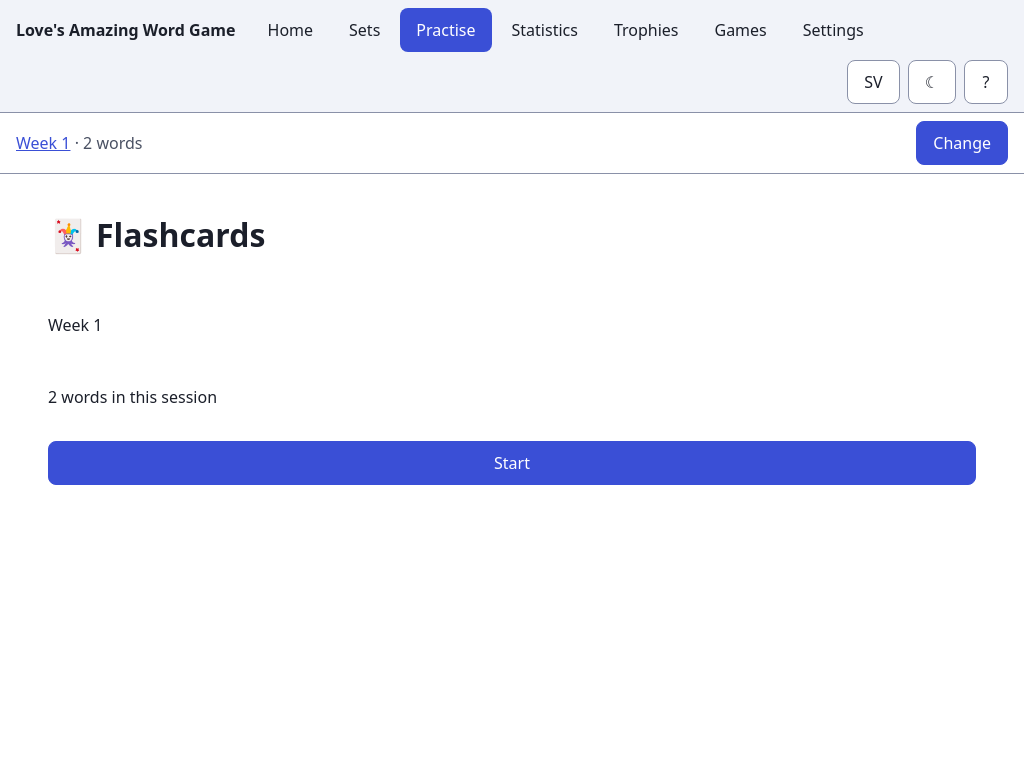
Scenario: running a session › FR-TRN-5: shows the score and a perfect-session message at the end
Click the button "Start" at (512, 463), box [48, 441, 976, 485]
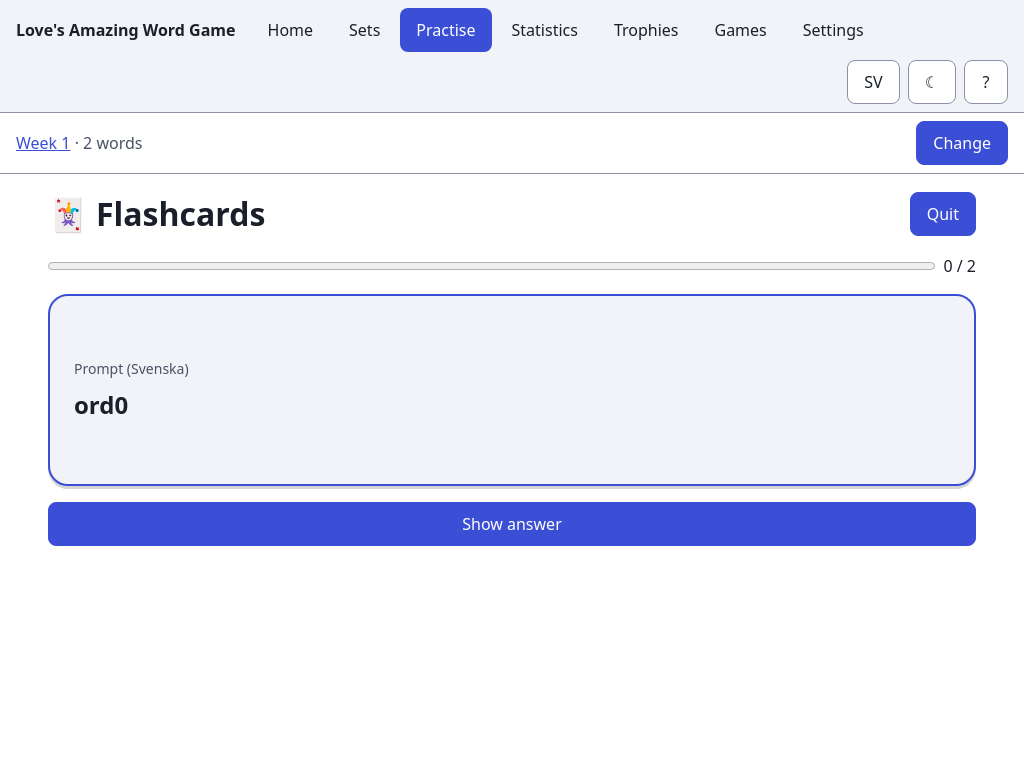
Click the button "Show answer" at (512, 524), box [48, 502, 976, 546]
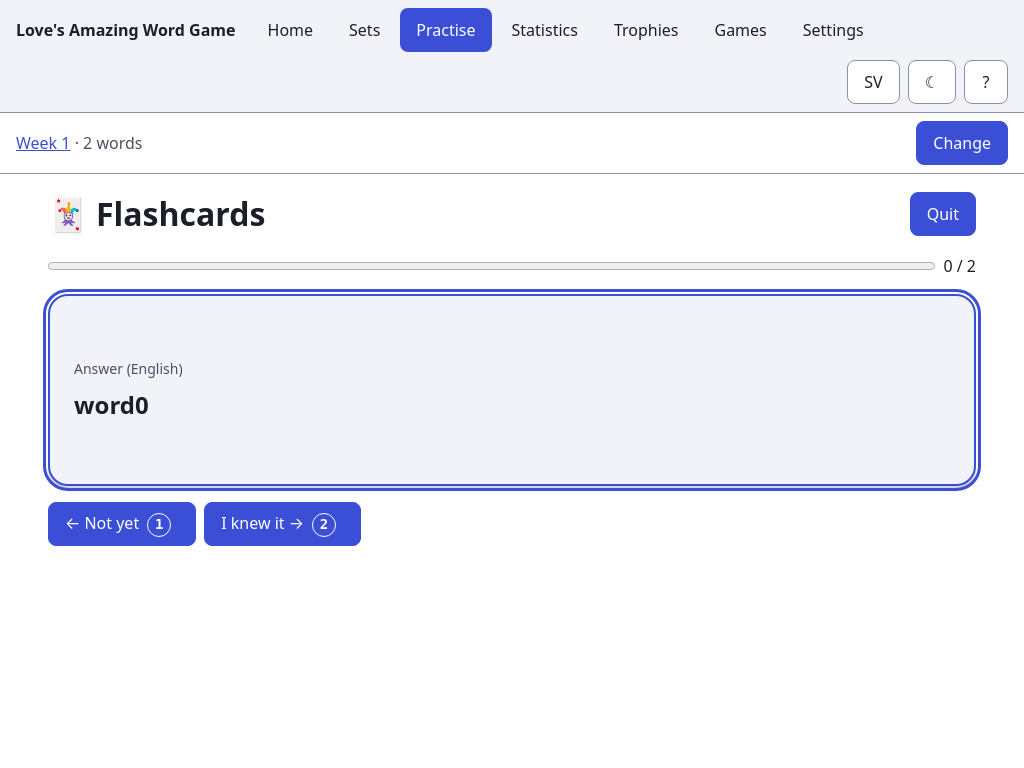
Click the button "I knew it → 2" at (283, 524), box [204, 502, 361, 546]
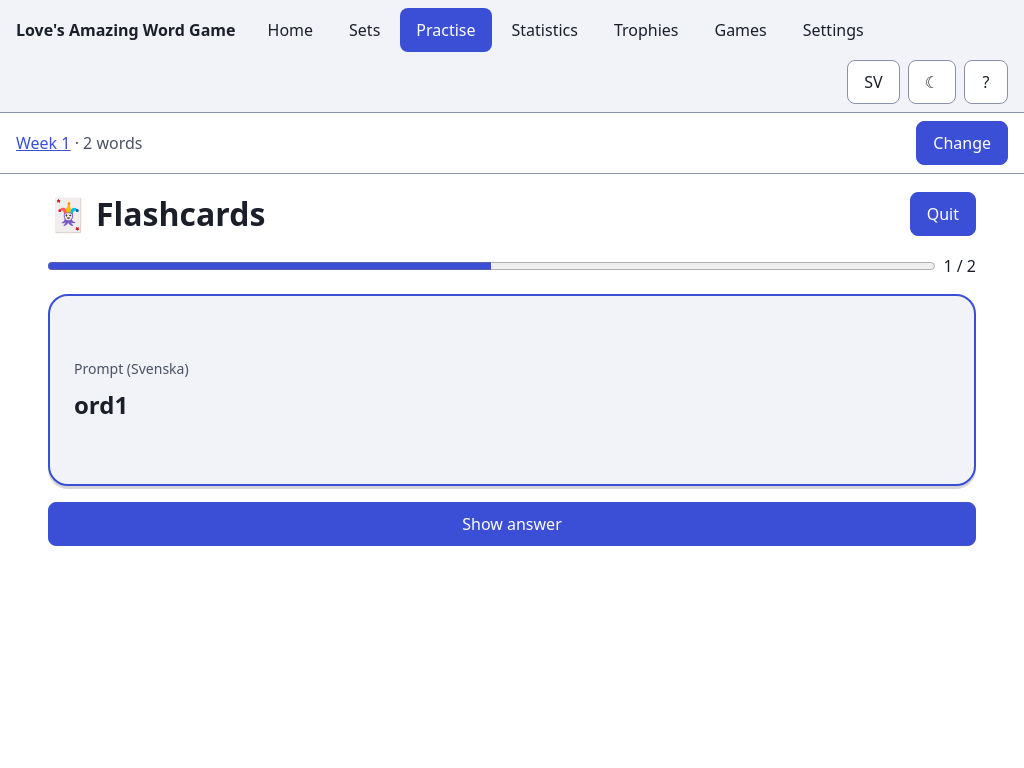
Click the button "Show answer" at (512, 524), box [48, 502, 976, 546]
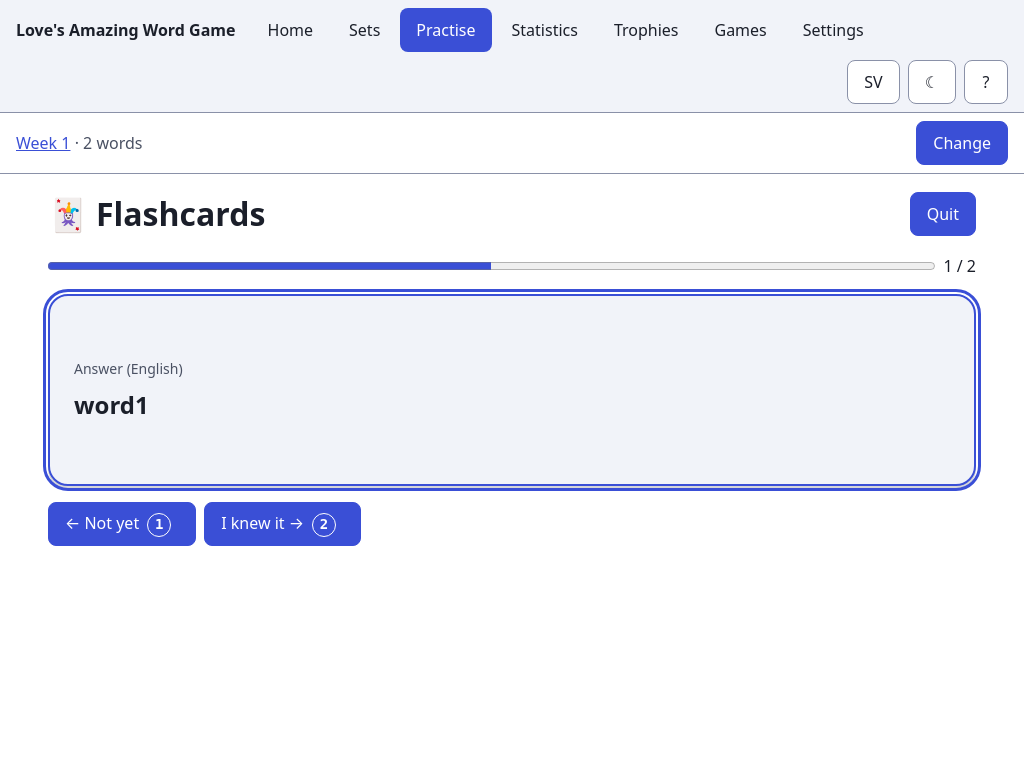
Click the button "I knew it → 2" at (283, 524), box [204, 502, 361, 546]
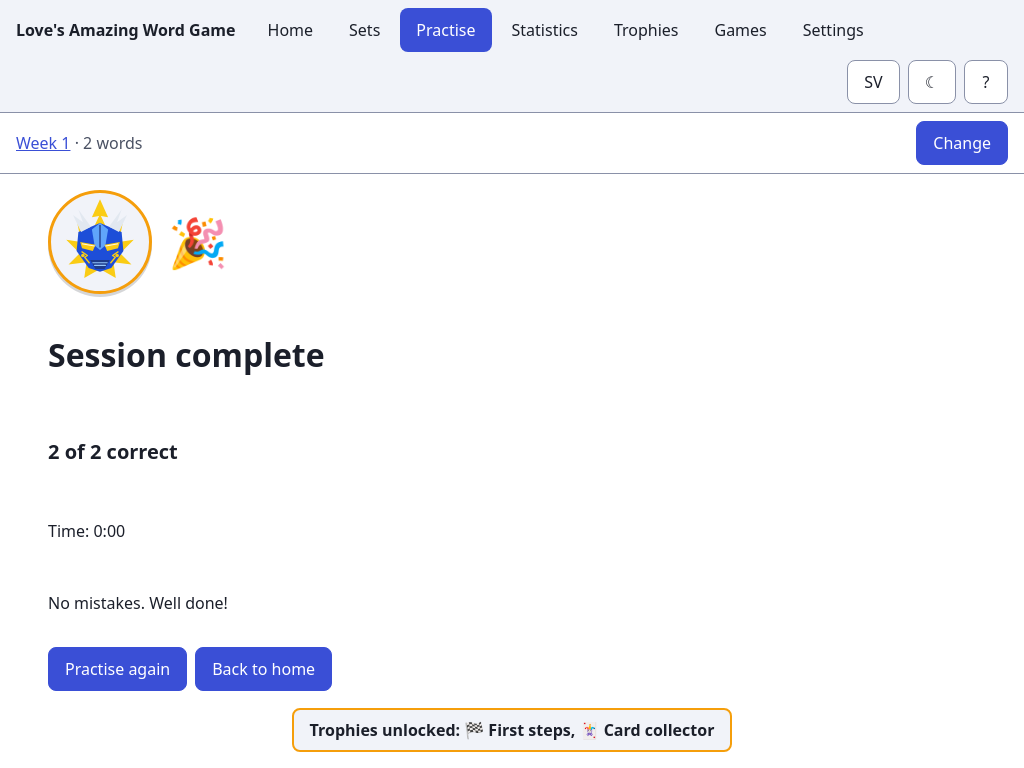
Check: the heading "Session complete" is shown, box [48, 333, 325, 376]
Check: the text "2 of 2 correct" is shown, box [48, 438, 178, 465]
Check: the text "Time: 0:00" is shown, box [48, 520, 125, 542]
